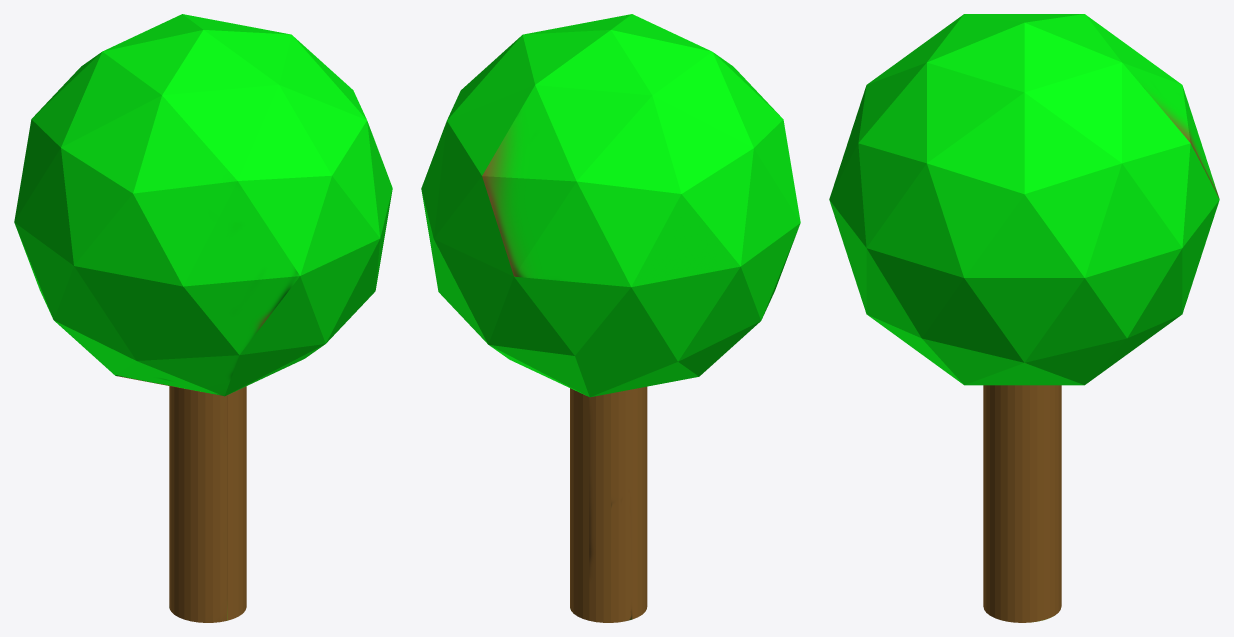
The model's file is Tree.fbx.
The picture shows the model from 3 angles, left to right: view 1: azimuth 30°, elevation 25°; view 2: azimuth 150°, elevation 25°; view 3: azimuth 270°, elevation 25°; orthographic projection.
Visible parts, largest first — view 1: Icosphere; view 2: Icosphere; view 3: Icosphere.
Boxes of the visible parts, box(x1,y1,x2,y2) form: Icosphere: box(14, 14, 392, 622); Icosphere: box(421, 14, 800, 622); Icosphere: box(829, 14, 1219, 622).
Bounding box in the file's own units: 190 × 329 × 200.
